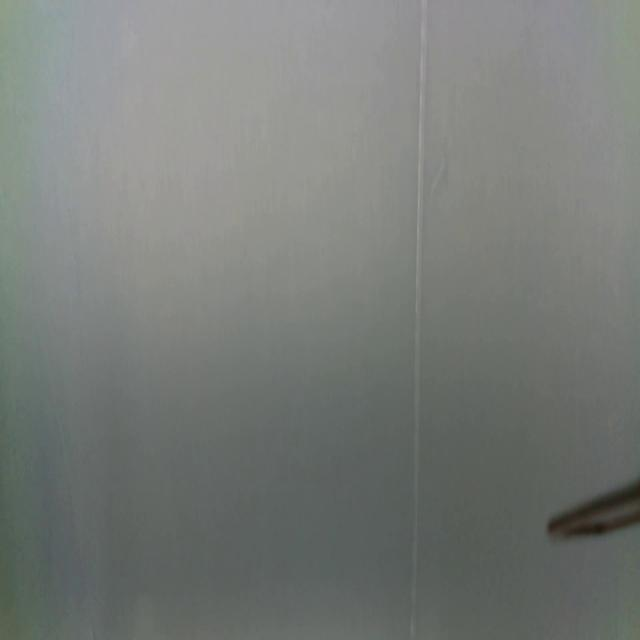crease: (408, 0, 429, 640)
